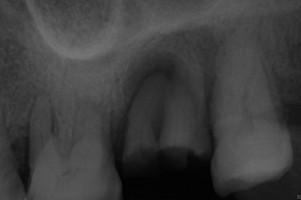Dental Caries: (124, 23, 222, 125)
